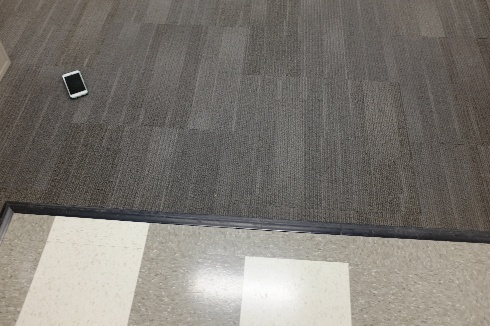phone: (51, 64, 100, 96)
